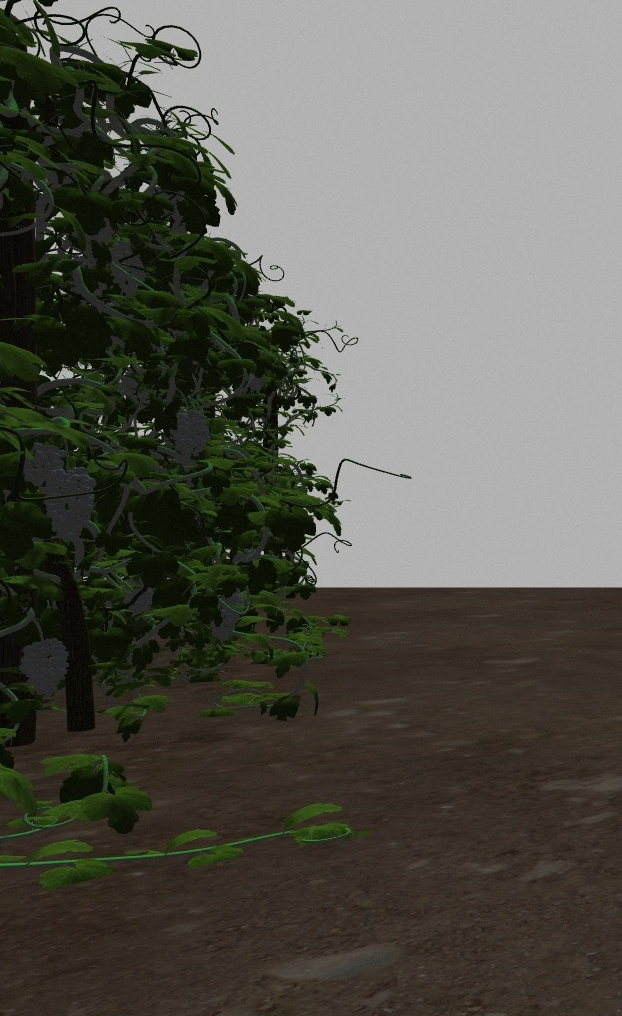grape: (45, 465, 95, 541), (18, 637, 70, 700), (108, 241, 147, 296), (171, 408, 211, 458), (23, 443, 65, 484), (210, 589, 239, 642), (124, 583, 154, 613)
